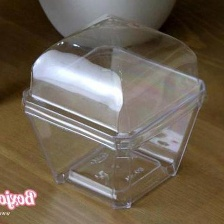glass: (16, 10, 214, 213)
